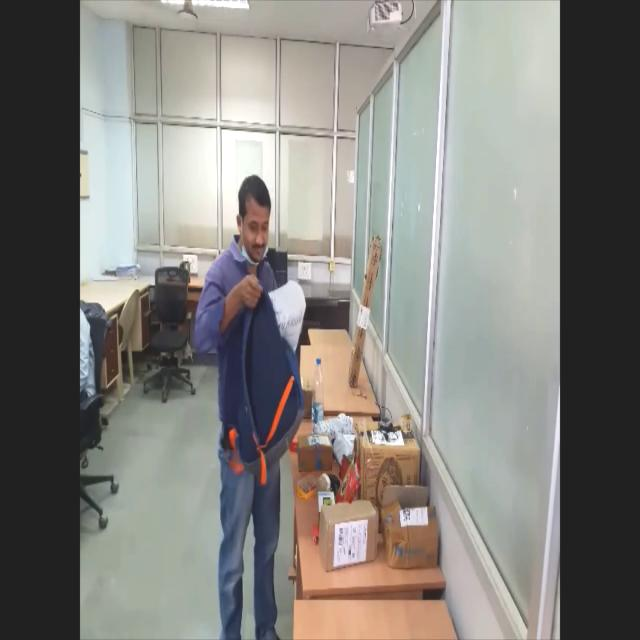shoplifting: (186, 175, 310, 640)
